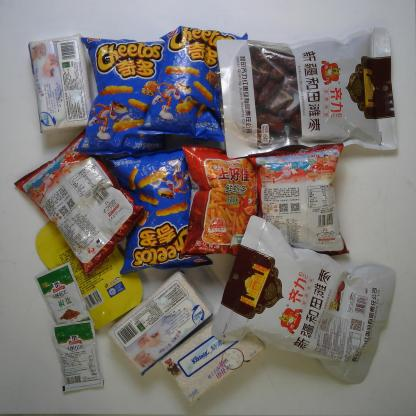Dried Food: (208, 214, 394, 384), (216, 27, 399, 160)
Dried Fruit: (37, 217, 144, 327)
Puffed Food: (12, 129, 142, 275), (106, 149, 212, 274), (139, 27, 250, 140), (248, 142, 350, 256), (74, 36, 164, 154), (179, 140, 247, 258)
Seasoner: (51, 321, 106, 394), (35, 262, 92, 328)
Tissue: (110, 270, 214, 376), (161, 318, 267, 404), (26, 33, 87, 134)
